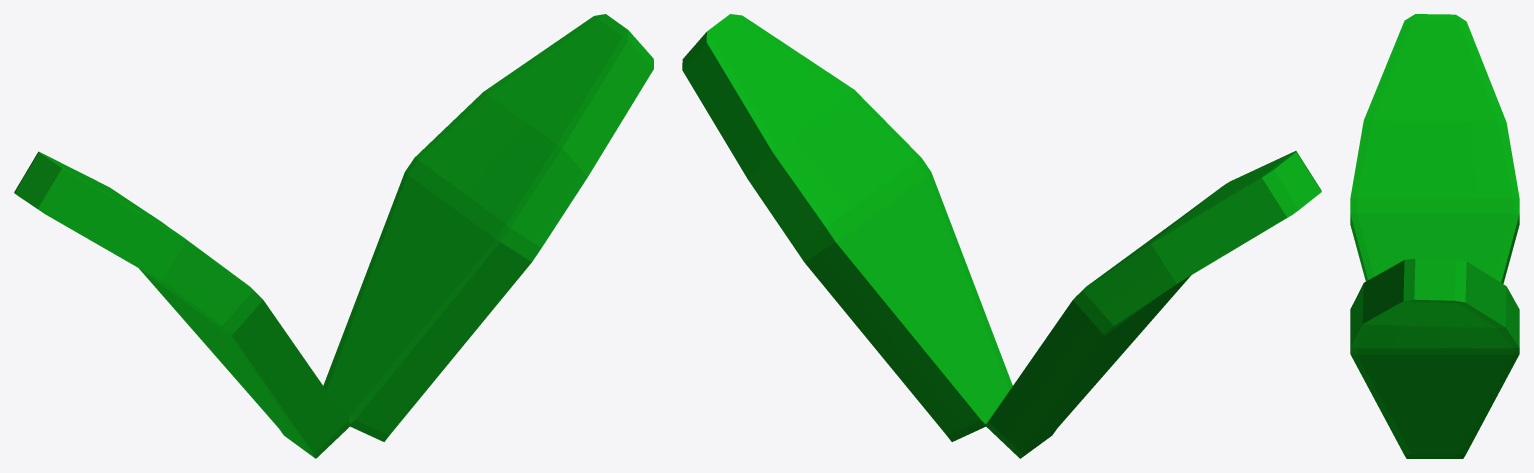
Rendered from Sprout.fbx.
3 renders of one model, left to right at view 1: azimuth 30°, elevation 25°; view 2: azimuth 150°, elevation 25°; view 3: azimuth 270°, elevation 25°, orthographic. The views are drawn at different scales.
Visible parts, largest first — view 1: Sprout Modifier Applied; view 2: Sprout Modifier Applied; view 3: Sprout Modifier Applied.
Part boxes in pixels (x1=…): Sprout Modifier Applied: x1=14, y1=14, x2=653, y2=458; Sprout Modifier Applied: x1=682, y1=14, x2=1321, y2=458; Sprout Modifier Applied: x1=1350, y1=14, x2=1519, y2=458.
Size of the model in its own units: 260 by 140 by 69.84.
